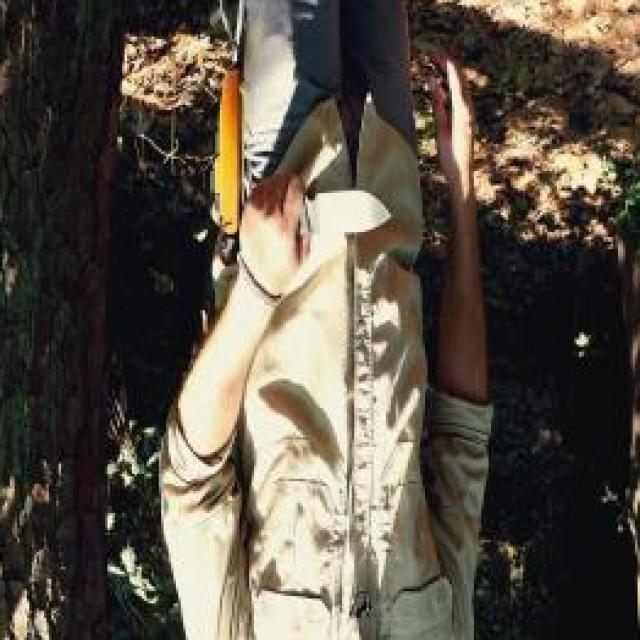knife: (242, 161, 402, 296)
